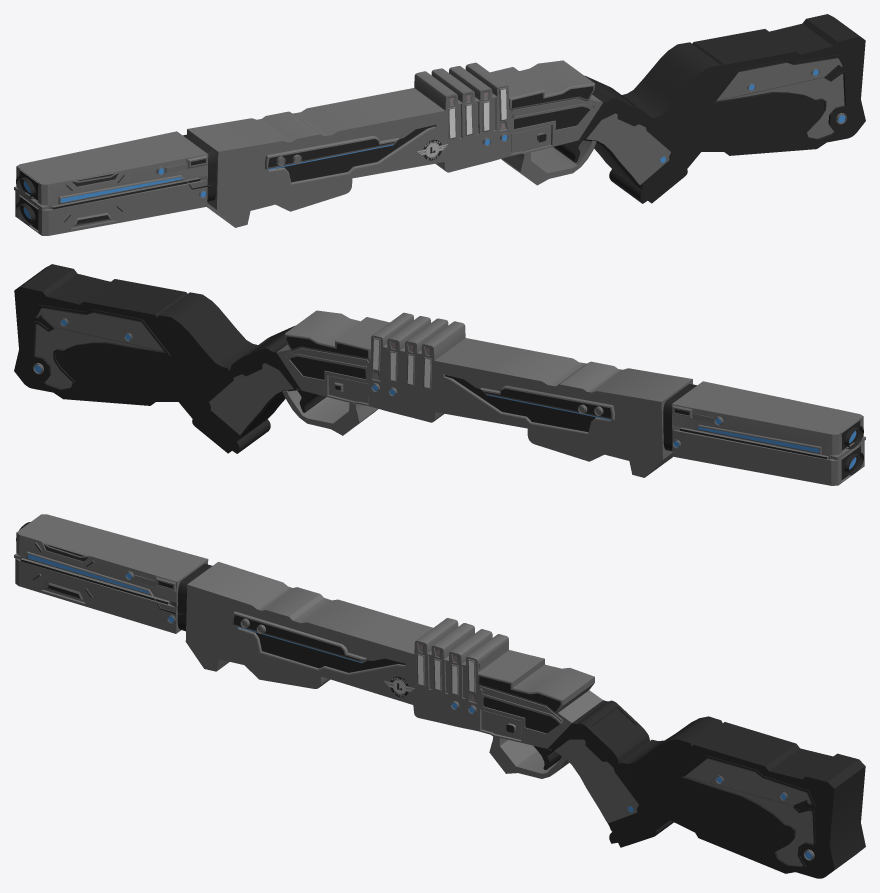
The model's file is shotgun1.fbx.
3 views of the same model, one above another, from view 1: azimuth 30°, elevation 25°; view 2: azimuth 150°, elevation 25°; view 3: azimuth 330°, elevation 25° (orthographic).
Visible parts, largest first — view 1: Cube.001, Cube.002; view 2: Cube.001, Cube.002; view 3: Cube.001.
Part boxes in pixels (box(x1,y1,x2,y2)): Cube.001: box(14, 14, 865, 235); Cube.002: box(61, 144, 393, 202); Cube.001: box(14, 264, 865, 485); Cube.002: box(486, 394, 819, 452); Cube.001: box(14, 514, 865, 878).
Size of the model in its own units: 471 by 89.73 by 36.82.
